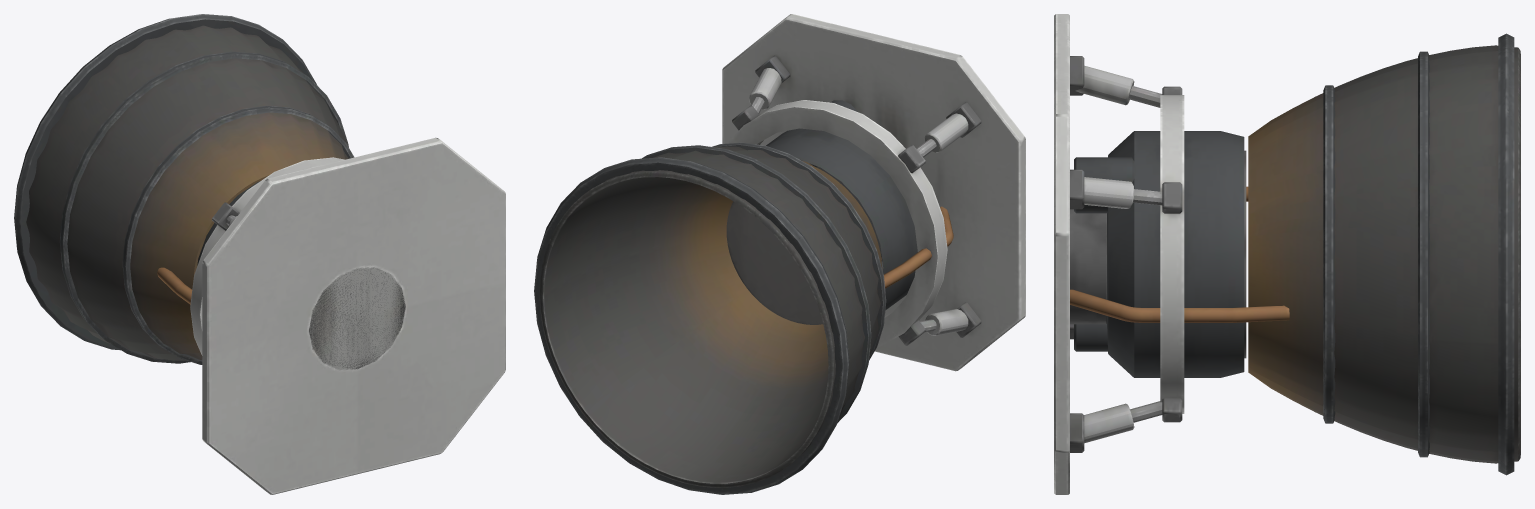
File: bell-S.glb
The picture shows the model from 3 angles, left to right: view 1: azimuth 30°, elevation 25°; view 2: azimuth 150°, elevation 25°; view 3: azimuth 270°, elevation 25°; orthographic projection. The views are drawn at different scales.
Visible parts, largest first — view 1: bell-S; view 2: bell-S; view 3: bell-S.
Part boxes in pixels (x1=…): bell-S: x1=14, y1=14, x2=505, y2=494; bell-S: x1=534, y1=14, x2=1025, y2=494; bell-S: x1=1054, y1=14, x2=1520, y2=494.
Bounding box in the file's own units: 3.09 × 3.09 × 3.26.
1 material, 1 textured.
